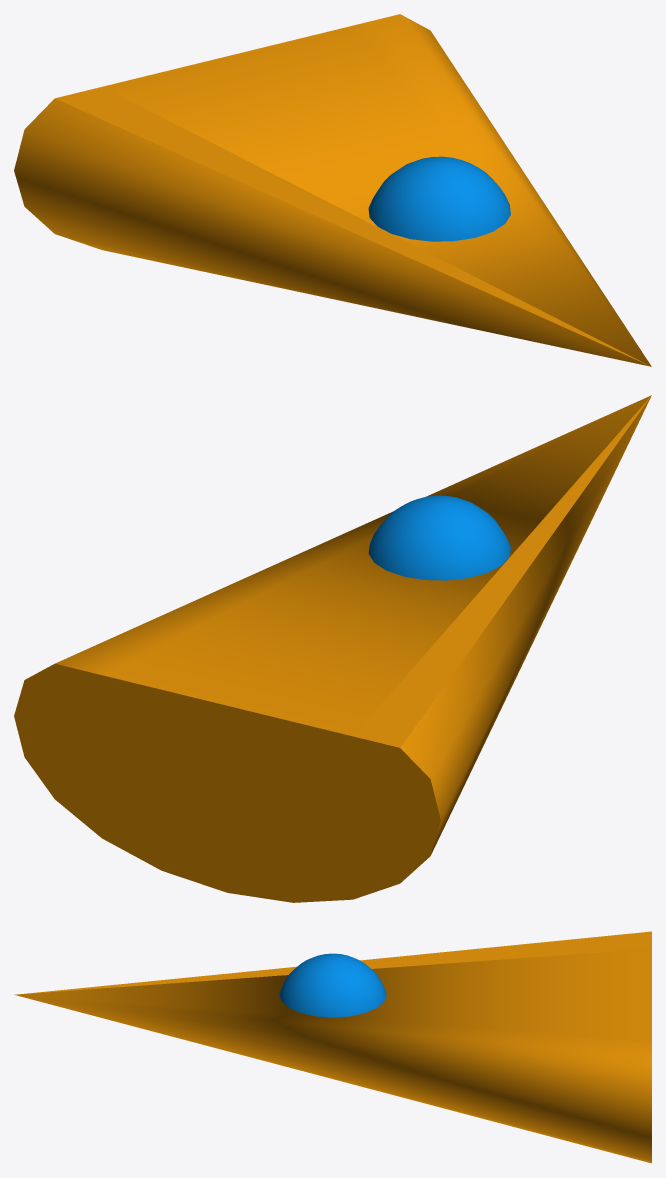
File: sentoki.fbx
The picture shows the model from 3 angles, top to bottom: view 1: azimuth 30°, elevation 25°; view 2: azimuth 150°, elevation 25°; view 3: azimuth 270°, elevation 25°; orthographic projection. The views are drawn at different scales.
Parts seen in each view (by area): view 1: pCone2; view 2: pCone2; view 3: pCone2.
Part boxes in pixels (box(x1,y1,x2,y2)): pCone2: box(14, 14, 651, 366); pCone2: box(14, 395, 651, 902); pCone2: box(14, 931, 651, 1163).
Size of the model in its own units: 2 by 1.05 by 3.44.
